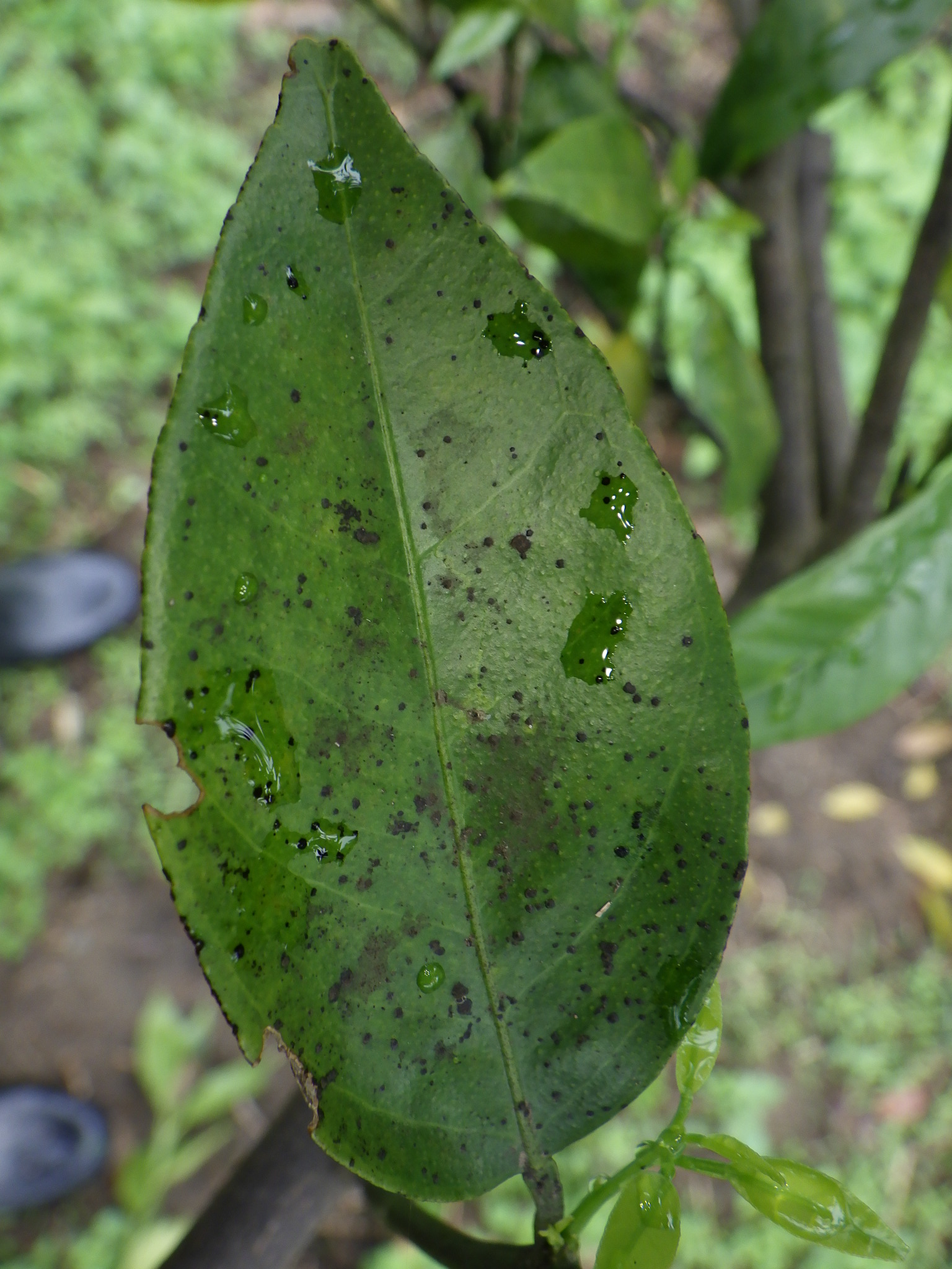Oily_Spot: (135, 38, 747, 1219)
